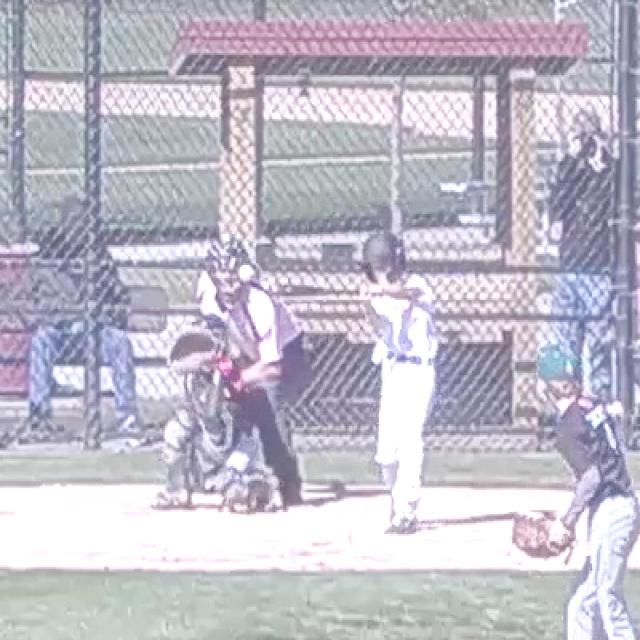baseball: (240, 266, 251, 278)
